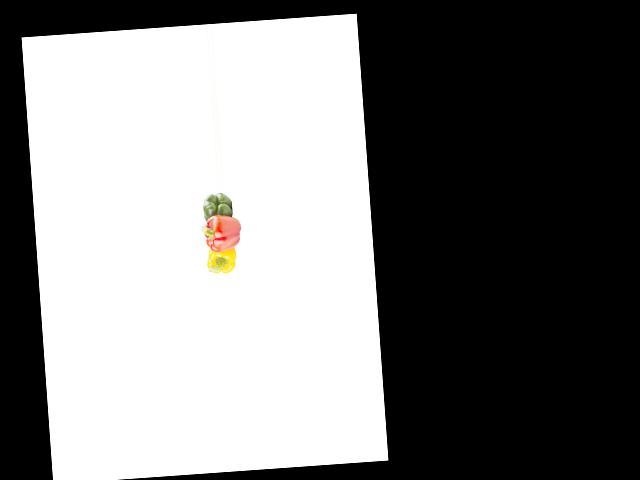bell_pepper: (202, 244, 243, 276)
